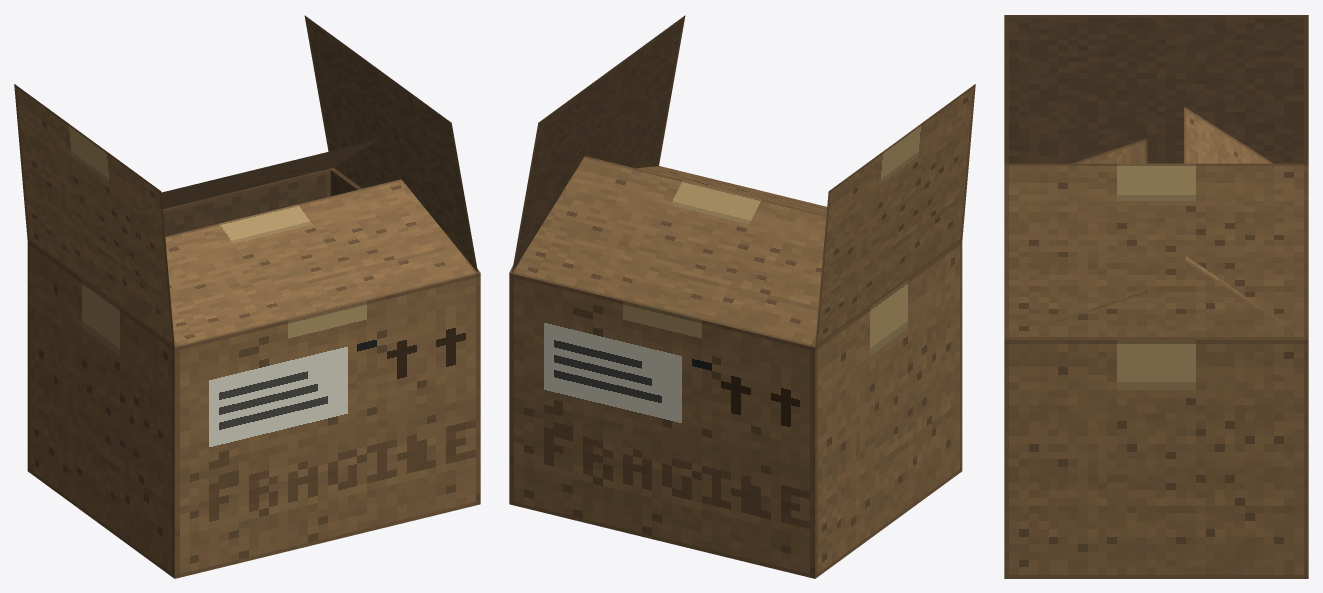
File: cardboard_box_c.glb
3 views of the same model, side by side, from view 1: azimuth 30°, elevation 25°; view 2: azimuth 150°, elevation 25°; view 3: azimuth 270°, elevation 25° (orthographic). The views are drawn at different scales.
Visible parts, largest first — view 1: Box; view 2: Box; view 3: Box.
Boxes of the visible parts, x1,y1,x2,y2 form: Box: [14, 15, 480, 578]; Box: [509, 15, 975, 578]; Box: [1004, 15, 1308, 578].
Bounding box in the file's own units: 0.3757 × 0.4396 × 0.3.
1 material, 1 textured.
